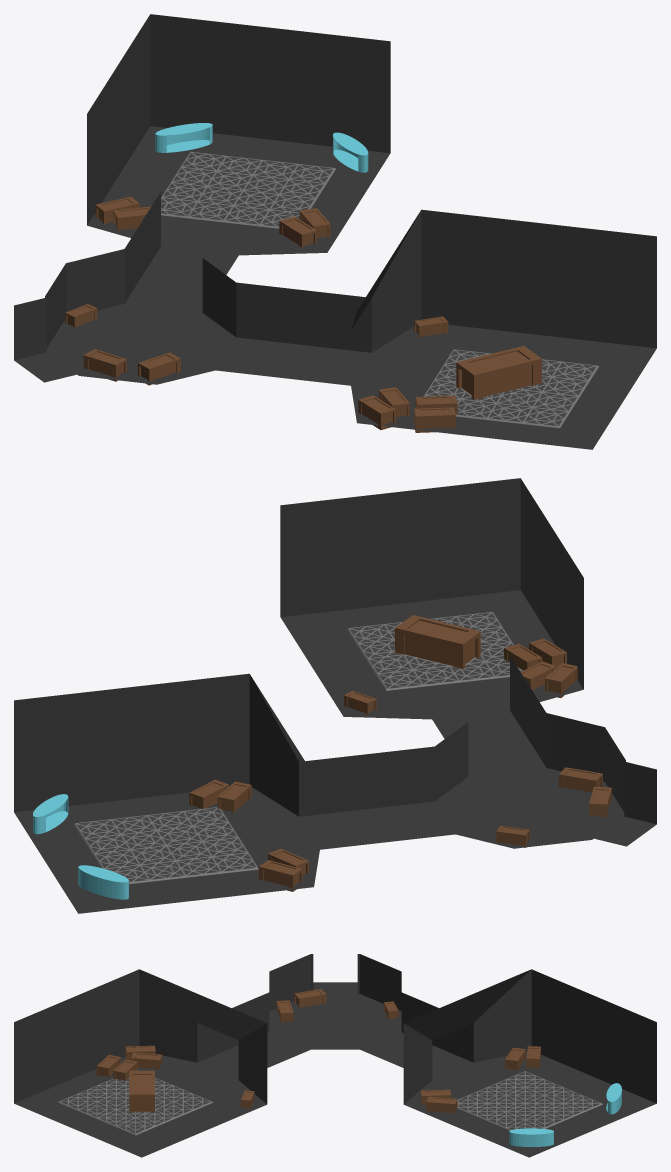
3 views of the same model, one above another, from view 1: azimuth 30°, elevation 25°; view 2: azimuth 150°, elevation 25°; view 3: azimuth 270°, elevation 25° (orthographic). The views are drawn at different scales.
Parts seen in each view (by area): view 1: RightShip2-col, Plane.006-col.001, Plane.004-col.001, Lootbox.013-col, ControlPanel.004-col, ControlPanel.003-col, Lootbox.006-col.001, Lootbox.003-col.002, Lootbox.004-col.002, Lootbox.007-col.001, Lootbox.010-col, Lootbox.011-col (+1 smaller); view 2: RightShip2-col, Plane.006-col.001, Plane.004-col.001, Lootbox.013-col, ControlPanel.004-col, ControlPanel.003-col, Lootbox.012-col, Lootbox.004-col.002, Lootbox.010-col, Lootbox.007-col.001, Lootbox.009-col, Lootbox.006-col.001 (+1 smaller); view 3: RightShip2-col, Plane.006-col.001, Plane.004-col.001, Lootbox.013-col, ControlPanel.003-col, Lootbox.003-col.002, Lootbox.009-col, Lootbox.005-col.002, ControlPanel.004-col, Lootbox.006-col.001, Lootbox.011-col, Lootbox.008-col (+1 smaller).
Part boxes in pixels (bbox=[...]): RightShip2-col: bbox=[14, 14, 656, 449]; Plane.006-col.001: bbox=[161, 151, 335, 228]; Plane.004-col.001: bbox=[413, 349, 598, 428]; Lootbox.013-col: bbox=[456, 346, 541, 399]; ControlPanel.004-col: bbox=[155, 123, 212, 152]; ControlPanel.003-col: bbox=[333, 132, 368, 172]; Lootbox.006-col.001: bbox=[414, 407, 455, 432]; Lootbox.003-col.002: bbox=[83, 349, 126, 381]; Lootbox.004-col.002: bbox=[138, 352, 180, 385]; Lootbox.007-col.001: bbox=[358, 395, 395, 429]; Lootbox.010-col: bbox=[279, 216, 316, 247]; Lootbox.011-col: bbox=[113, 206, 151, 230]; RightShip2-col: bbox=[14, 478, 656, 913]; Plane.006-col.001: bbox=[73, 807, 258, 884]; Plane.004-col.001: bbox=[347, 612, 523, 690]; Lootbox.013-col: bbox=[395, 615, 480, 669]; ControlPanel.004-col: bbox=[78, 865, 128, 899]; ControlPanel.003-col: bbox=[33, 794, 68, 834]; Lootbox.012-col: bbox=[258, 860, 302, 891]; Lootbox.004-col.002: bbox=[558, 767, 602, 792]; Lootbox.010-col: bbox=[217, 781, 251, 812]; Lootbox.007-col.001: bbox=[545, 663, 577, 697]; Lootbox.009-col: bbox=[189, 779, 228, 808]; Lootbox.006-col.001: bbox=[529, 638, 566, 667]; RightShip2-col: bbox=[14, 954, 656, 1157]; Plane.006-col.001: bbox=[457, 1071, 602, 1130]; Plane.004-col.001: bbox=[58, 1070, 212, 1135]; Lootbox.013-col: bbox=[129, 1070, 154, 1112]; ControlPanel.003-col: bbox=[509, 1128, 553, 1146]; Lootbox.003-col.002: bbox=[294, 988, 326, 1007]; Lootbox.009-col: bbox=[426, 1096, 457, 1113]; Lootbox.005-col.002: bbox=[131, 1052, 162, 1069]; ControlPanel.004-col: bbox=[606, 1083, 621, 1114]; Lootbox.006-col.001: bbox=[96, 1055, 120, 1077]; Lootbox.011-col: bbox=[505, 1047, 525, 1070]; Lootbox.008-col: bbox=[113, 1059, 137, 1081].
Bounding box in the file's own units: 37.69 × 8.59 × 58.38.
